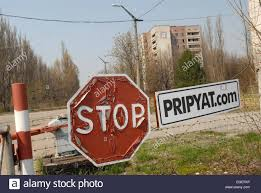stop: (63, 71, 160, 167)
